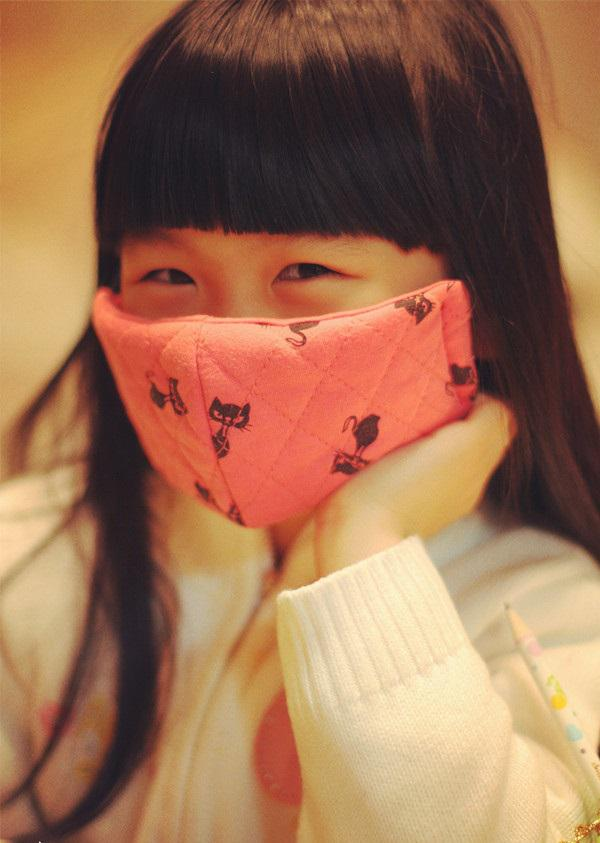OK: (122, 207, 438, 523)
